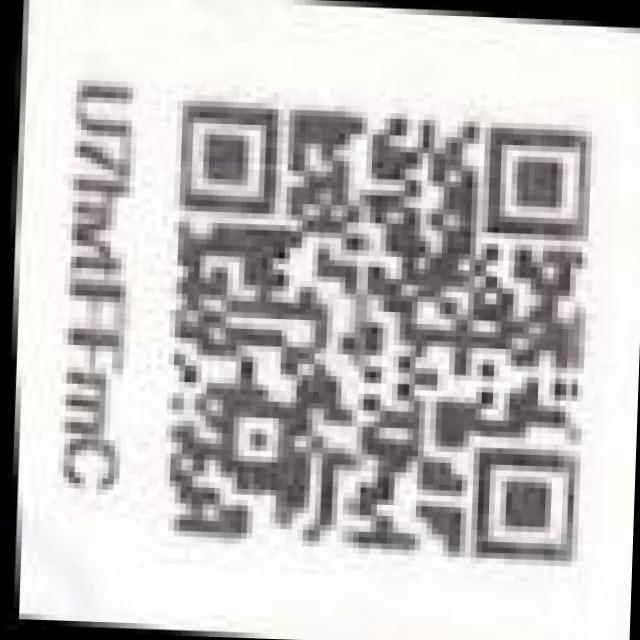QRCode: (138, 83, 627, 585)
